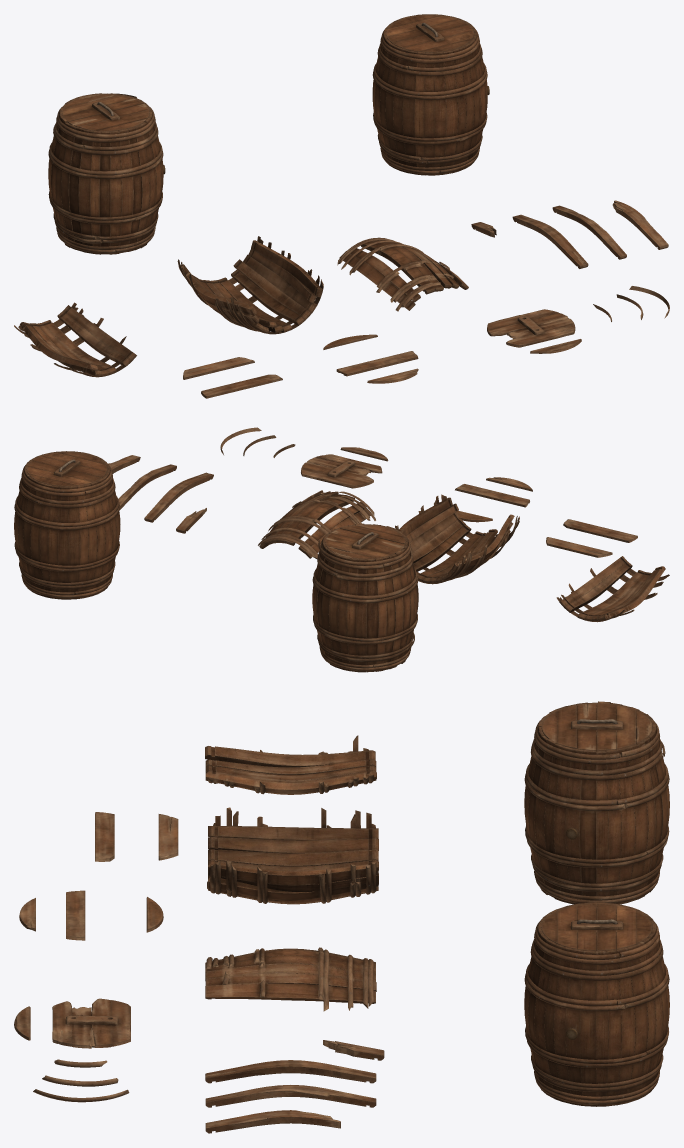
The model's file is wooden_barrels_01.glb.
3 renders of one model, top to bottom at view 1: azimuth 30°, elevation 25°; view 2: azimuth 150°, elevation 25°; view 3: azimuth 270°, elevation 25°, orthographic. The views are drawn at different scales.
Parts seen in each view (by area): view 1: wooden_barrels_01_barrel02, wooden_barrels_01_barrel01, wooden_barrels_01_piece01, wooden_barrels_01_piece03, wooden_barrels_01_piece02, wooden_barrels_01_piece08, wooden_barrels_01_piece04, wooden_barrels_01_piece05, wooden_barrels_01_piece06, wooden_barrels_01_piece11, wooden_barrels_01_piece14, wooden_barrels_01_piece13; view 2: wooden_barrels_01_barrel02, wooden_barrels_01_barrel01, wooden_barrels_01_piece01, wooden_barrels_01_piece03, wooden_barrels_01_piece02, wooden_barrels_01_piece08, wooden_barrels_01_piece04, wooden_barrels_01_piece14, wooden_barrels_01_piece11, wooden_barrels_01_piece05, wooden_barrels_01_piece13; view 3: wooden_barrels_01_barrel01, wooden_barrels_01_barrel02, wooden_barrels_01_piece01, wooden_barrels_01_piece03, wooden_barrels_01_piece02, wooden_barrels_01_piece08, wooden_barrels_01_piece04, wooden_barrels_01_piece05, wooden_barrels_01_piece06, wooden_barrels_01_piece11, wooden_barrels_01_piece14, wooden_barrels_01_piece13 (+1 smaller).
Part boxes in pixels (x1=…): wooden_barrels_01_barrel02: x1=48, y1=93, x2=165, y2=254; wooden_barrels_01_barrel01: x1=372, y1=14, x2=489, y2=175; wooden_barrels_01_piece01: x1=177, y1=236, x2=323, y2=334; wooden_barrels_01_piece03: x1=337, y1=237, x2=468, y2=311; wooden_barrels_01_piece02: x1=14, y1=302, x2=136, y2=377; wooden_barrels_01_piece08: x1=487, y1=309, x2=575, y2=347; wooden_barrels_01_piece04: x1=512, y1=214, x2=588, y2=268; wooden_barrels_01_piece05: x1=552, y1=205, x2=626, y2=259; wooden_barrels_01_piece06: x1=612, y1=200, x2=668, y2=249; wooden_barrels_01_piece11: x1=336, y1=351, x2=418, y2=376; wooden_barrels_01_piece14: x1=201, y1=374, x2=282, y2=398; wooden_barrels_01_piece13: x1=183, y1=357, x2=254, y2=379; wooden_barrels_01_barrel02: x1=312, y1=523, x2=418, y2=672; wooden_barrels_01_barrel01: x1=14, y1=451, x2=120, y2=599; wooden_barrels_01_piece01: x1=395, y1=494, x2=519, y2=584; wooden_barrels_01_piece03: x1=258, y1=490, x2=375, y2=558; wooden_barrels_01_piece02: x1=556, y1=556, x2=669, y2=622; wooden_barrels_01_piece08: x1=301, y1=454, x2=382, y2=488; wooden_barrels_01_piece04: x1=144, y1=472, x2=213, y2=522; wooden_barrels_01_piece14: x1=563, y1=519, x2=637, y2=542; wooden_barrels_01_piece11: x1=455, y1=484, x2=529, y2=507; wooden_barrels_01_piece05: x1=118, y1=464, x2=176, y2=510; wooden_barrels_01_piece13: x1=546, y1=537, x2=612, y2=557; wooden_barrels_01_barrel01: x1=524, y1=902, x2=669, y2=1106; wooden_barrels_01_barrel02: x1=524, y1=701, x2=669, y2=904; wooden_barrels_01_piece01: x1=207, y1=807, x2=378, y2=904; wooden_barrels_01_piece03: x1=205, y1=947, x2=376, y2=1011; wooden_barrels_01_piece02: x1=205, y1=735, x2=376, y2=794; wooden_barrels_01_piece08: x1=52, y1=998, x2=130, y2=1048; wooden_barrels_01_piece04: x1=205, y1=1060, x2=376, y2=1083; wooden_barrels_01_piece05: x1=205, y1=1085, x2=376, y2=1107; wooden_barrels_01_piece06: x1=205, y1=1110, x2=340, y2=1133; wooden_barrels_01_piece11: x1=66, y1=890, x2=85, y2=940; wooden_barrels_01_piece14: x1=95, y1=812, x2=114, y2=861; wooden_barrels_01_piece13: x1=158, y1=814, x2=178, y2=860.
Bounding box in the file's own units: 4.44 × 0.9567 × 3.34.
3 materials, 3 textured.
